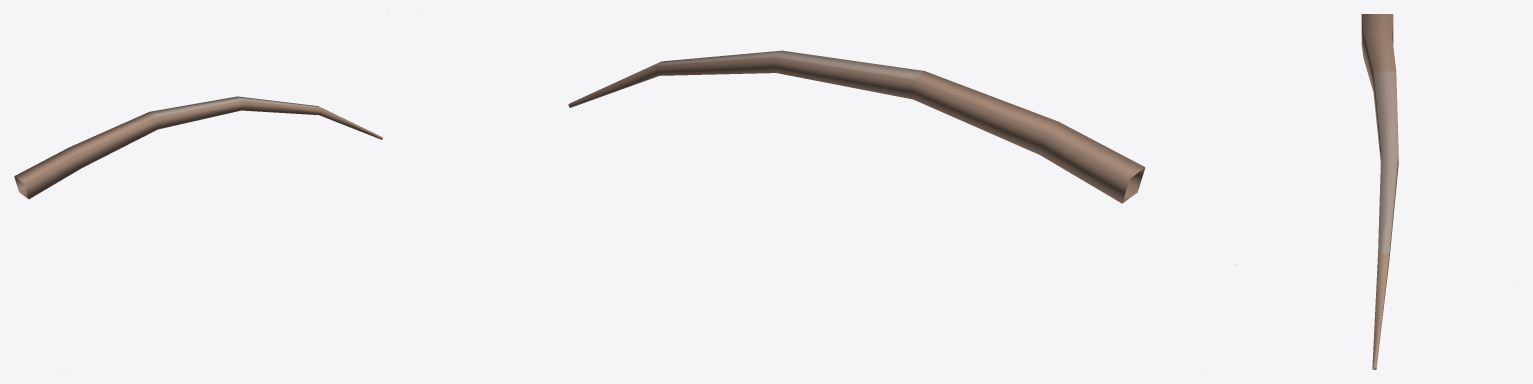
Rendered from CedarBough_bark.glb.
3 renders of one model, left to right at view 1: azimuth 30°, elevation 25°; view 2: azimuth 150°, elevation 25°; view 3: azimuth 270°, elevation 25°, orthographic. The views are drawn at different scales.
Parts seen in each view (by area): view 1: CedarBough_bark; view 2: CedarBough_bark; view 3: CedarBough_bark.
Part boxes in pixels (x1,y1,x2,y2): CedarBough_bark: (14, 14, 388, 369); CedarBough_bark: (417, 14, 1207, 369); CedarBough_bark: (1236, 14, 1398, 369).
Bounding box in the file's own units: 12.31 × 5.4 × 4.58.
